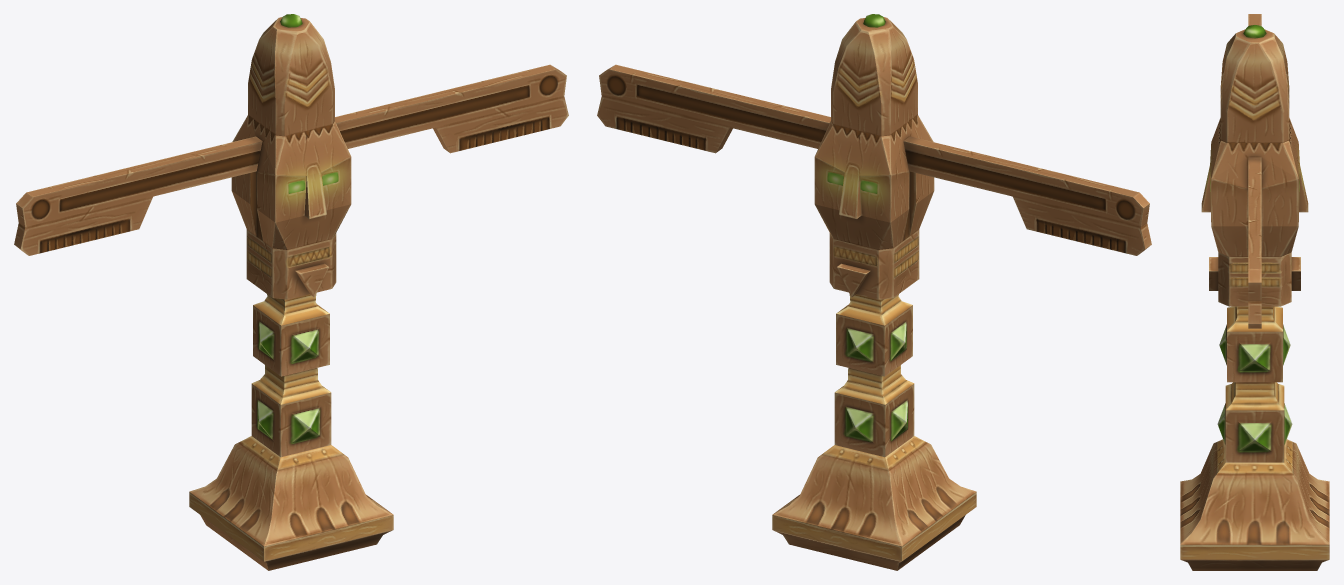
Rendered from totem.fbx.
3 views of the same model, side by side, from view 1: azimuth 30°, elevation 25°; view 2: azimuth 150°, elevation 25°; view 3: azimuth 270°, elevation 25° (orthographic).
Visible parts, largest first — view 1: default; view 2: default; view 3: default.
Part boxes in pixels (x1,y1,x2,y2): default: [14, 14, 568, 570]; default: [597, 14, 1151, 570]; default: [1180, 14, 1329, 570].
Size of the model in its own units: 29.03 by 26.34 by 6.86.
